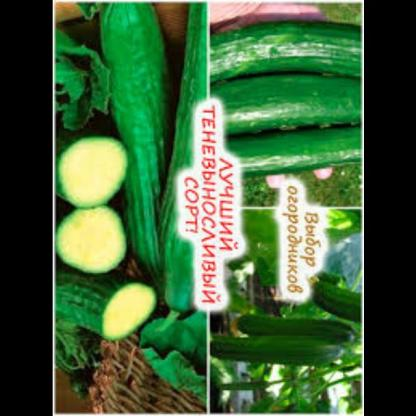cucumber: (101, 2, 204, 317), (212, 20, 364, 180), (53, 133, 156, 345), (224, 260, 364, 386)
